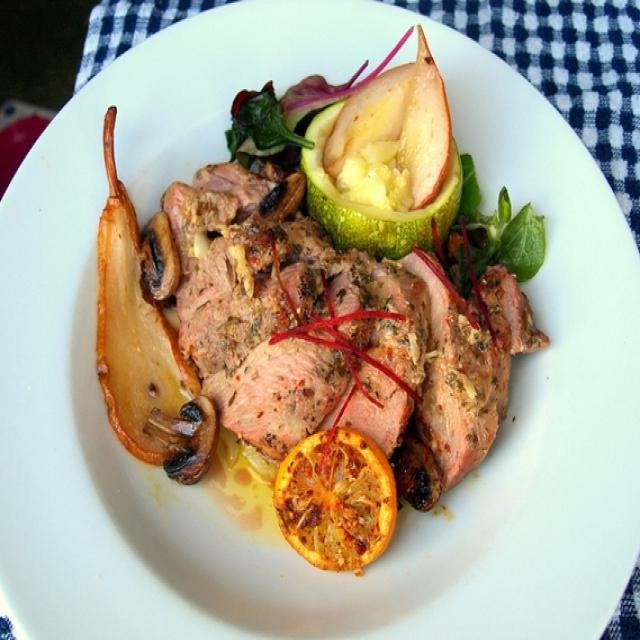猪肉菜式: (1, 2, 630, 618)
